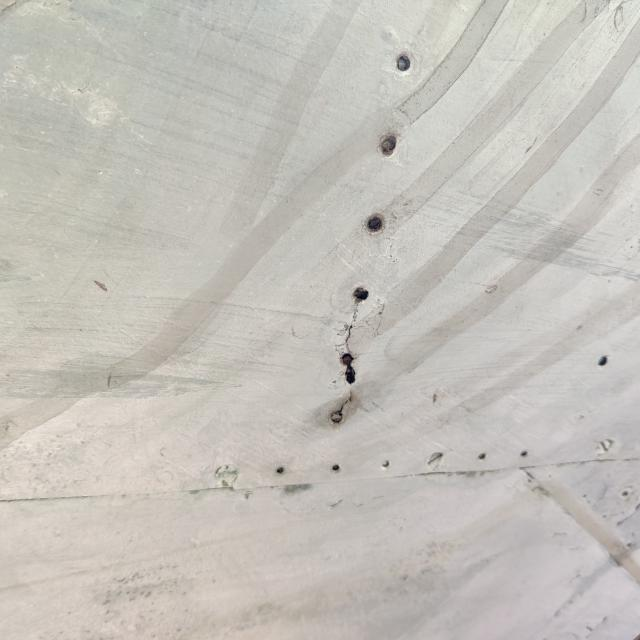crack: (312, 306, 394, 435)
